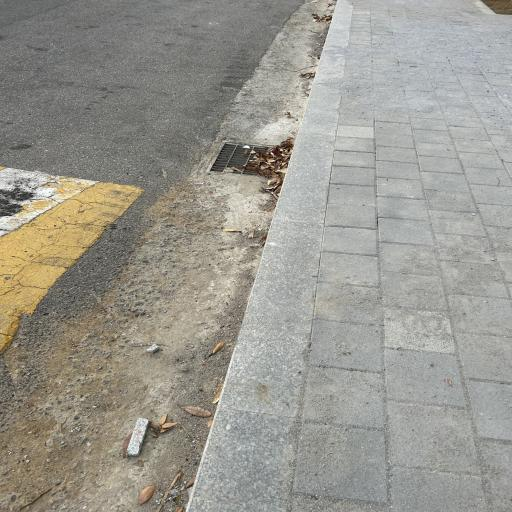debris: (259, 147, 289, 176), (246, 157, 264, 172), (263, 151, 271, 155), (225, 167, 233, 170), (275, 156, 277, 159)
drain: (213, 142, 292, 177)
